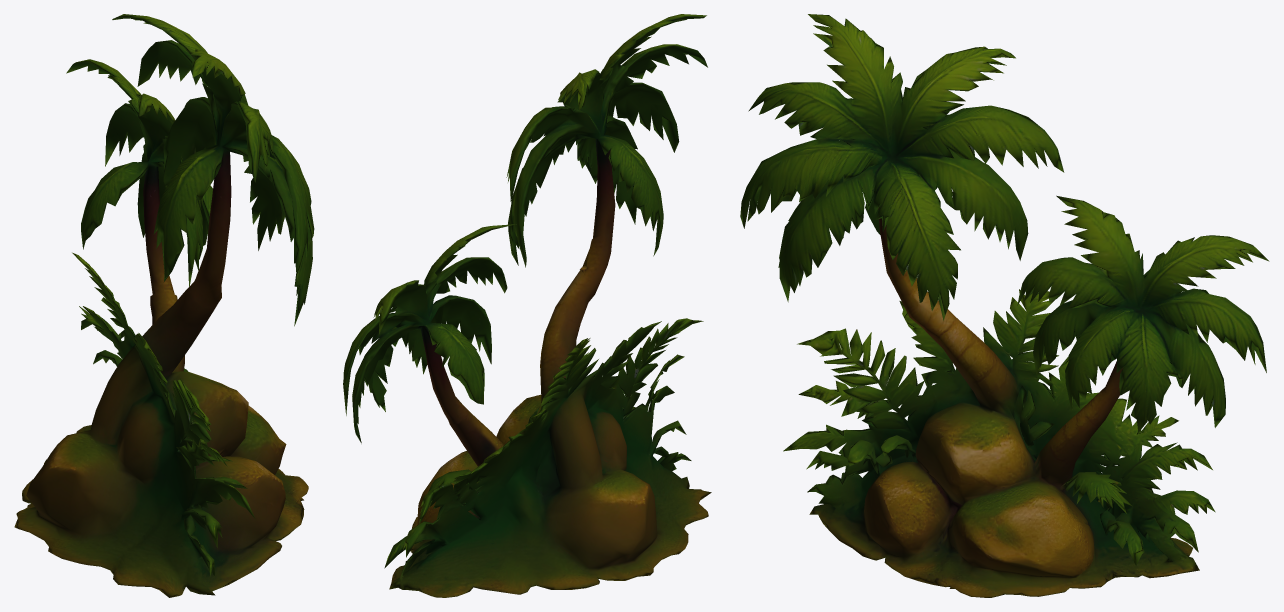
The model's file is jungle.glb.
3 views of the same model, side by side, from view 1: azimuth 30°, elevation 25°; view 2: azimuth 150°, elevation 25°; view 3: azimuth 270°, elevation 25° (orthographic). The views are drawn at different scales.
Parts seen in each view (by area): view 1: tripo_mesh_5bc1cecf-239a-4fac-a60f-fd70105e93fb; view 2: tripo_mesh_5bc1cecf-239a-4fac-a60f-fd70105e93fb; view 3: tripo_mesh_5bc1cecf-239a-4fac-a60f-fd70105e93fb.
Boxes of the visible parts, x1,y1,x2,y2 form: tripo_mesh_5bc1cecf-239a-4fac-a60f-fd70105e93fb: (14,14,314,597); tripo_mesh_5bc1cecf-239a-4fac-a60f-fd70105e93fb: (343,14,711,597); tripo_mesh_5bc1cecf-239a-4fac-a60f-fd70105e93fb: (740,14,1269,597).
Bounding box in the file's own units: 0.5216 × 1 × 0.968.
Materials: 1 (1 with a texture image).
